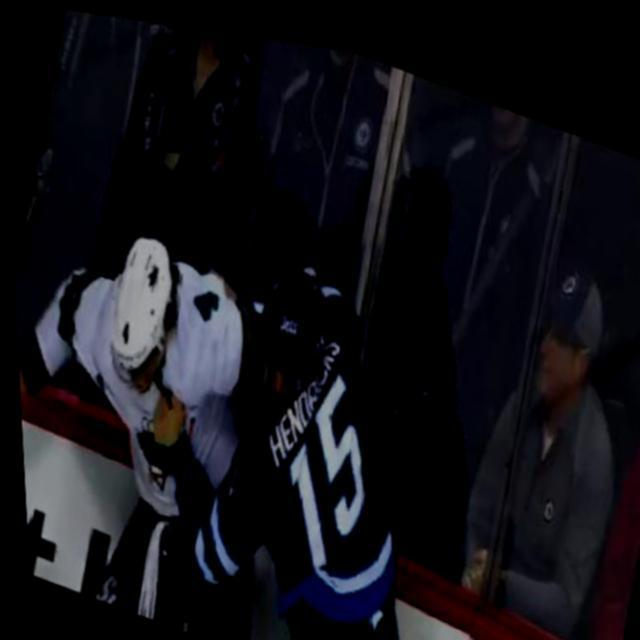fight: (7, 174, 431, 640)
